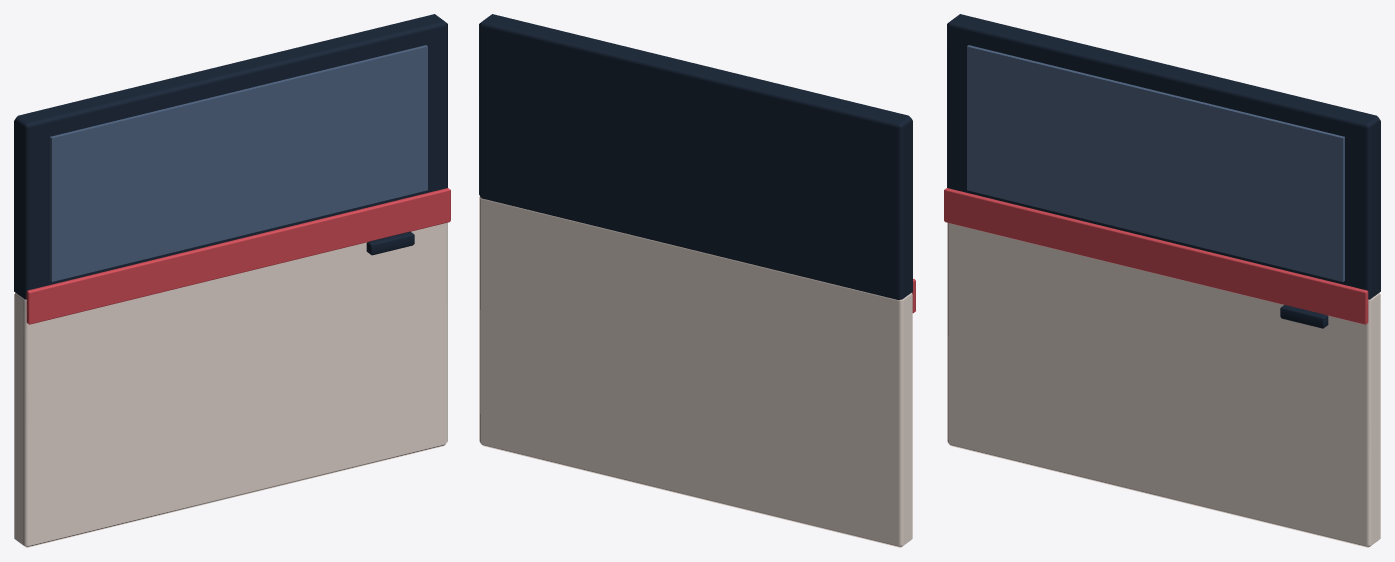
File: minibus_door.glb
The picture shows the model from 3 angles, left to right: view 1: azimuth 30°, elevation 25°; view 2: azimuth 150°, elevation 25°; view 3: azimuth 330°, elevation 25°; orthographic projection.
Parts seen in each view (by area): view 1: minibus_door.001; view 2: minibus_door.001; view 3: minibus_door.001.
Part boxes in pixels (x1=…): minibus_door.001: x1=14, y1=14, x2=450, y2=547; minibus_door.001: x1=479, y1=14, x2=915, y2=547; minibus_door.001: x1=944, y1=14, x2=1380, y2=547.
Size of the model in its own units: 2.01 by 1.92 by 0.158.
